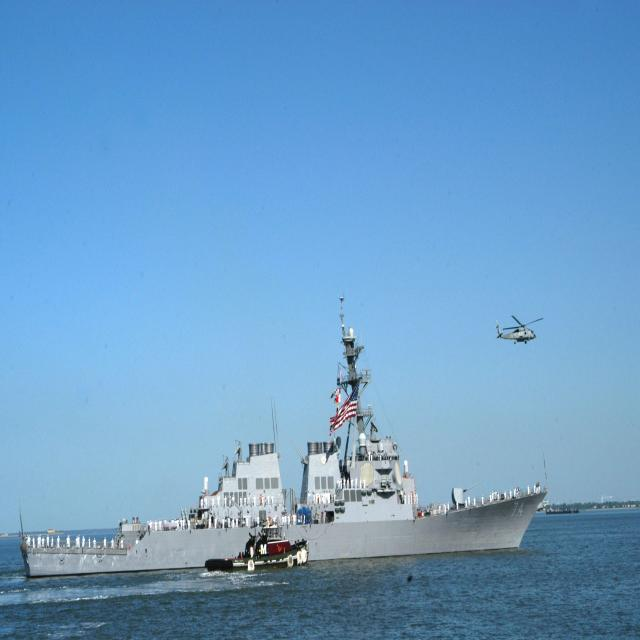fishing boat: (195, 515, 312, 578)
navalvessels: (16, 308, 550, 597)
